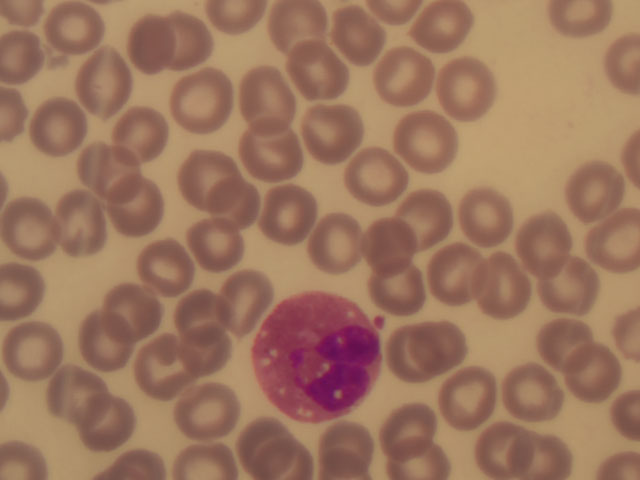RBC: (431, 56, 498, 121), (394, 110, 461, 175), (343, 139, 410, 204), (391, 183, 458, 248), (359, 213, 426, 278), (308, 212, 375, 277), (367, 256, 434, 321), (414, 243, 481, 308), (459, 252, 526, 317), (512, 207, 579, 272), (451, 185, 518, 250), (536, 255, 603, 320), (573, 206, 640, 271), (563, 158, 630, 223), (565, 344, 632, 409), (527, 307, 594, 372), (500, 357, 567, 422), (434, 364, 501, 429), (408, 313, 475, 378), (385, 324, 452, 389), (260, 184, 327, 249), (242, 123, 309, 188), (229, 67, 296, 132), (301, 102, 368, 167), (286, 46, 353, 111), (150, 12, 217, 77), (72, 47, 139, 112), (27, 95, 94, 160), (108, 97, 175, 162), (78, 133, 145, 198), (108, 180, 175, 245), (179, 144, 246, 209), (170, 71, 237, 136), (370, 46, 437, 111), (330, 7, 397, 72), (511, 415, 578, 480), (466, 415, 533, 480), (375, 415, 442, 480), (312, 415, 379, 480), (234, 415, 301, 480), (174, 381, 241, 446), (129, 330, 196, 395), (168, 317, 235, 382), (167, 278, 234, 343), (224, 265, 291, 330), (186, 210, 253, 275), (200, 171, 267, 236), (135, 230, 202, 295), (102, 278, 169, 343), (72, 320, 139, 385), (51, 361, 118, 426), (84, 393, 151, 458), (3, 324, 70, 389), (3, 198, 70, 263), (48, 191, 115, 256), (40, 2, 107, 67), (261, 1, 328, 65), (408, 1, 475, 65), (545, 1, 611, 43)
WBC: (252, 293, 376, 420)
